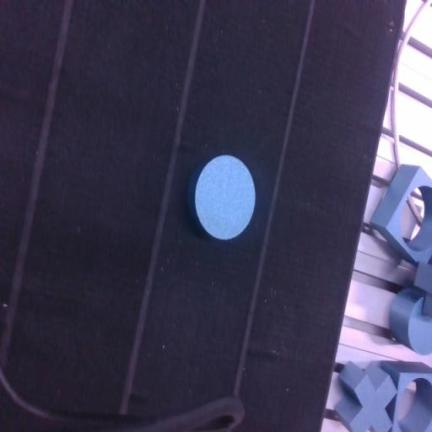cylinder: (190, 155, 255, 240)
